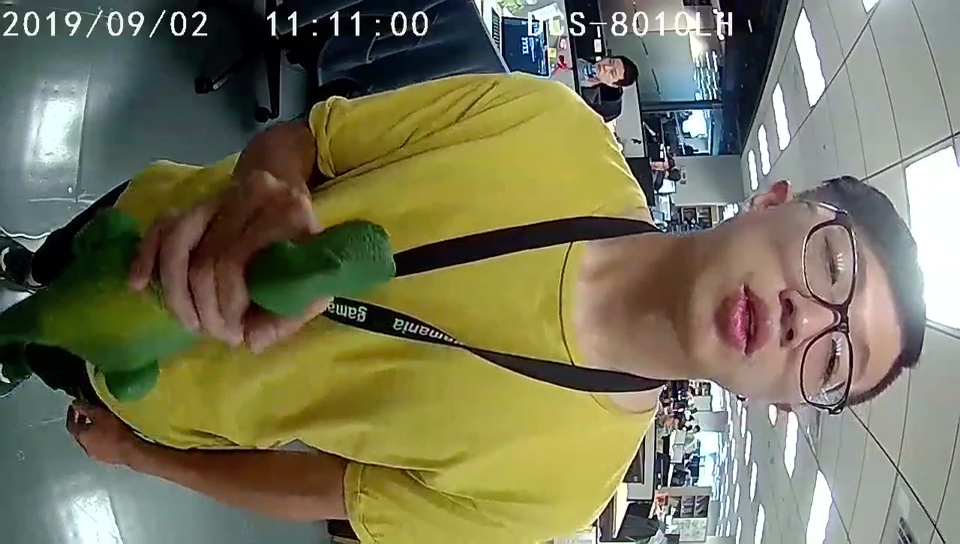rex: (67, 218, 397, 400)
